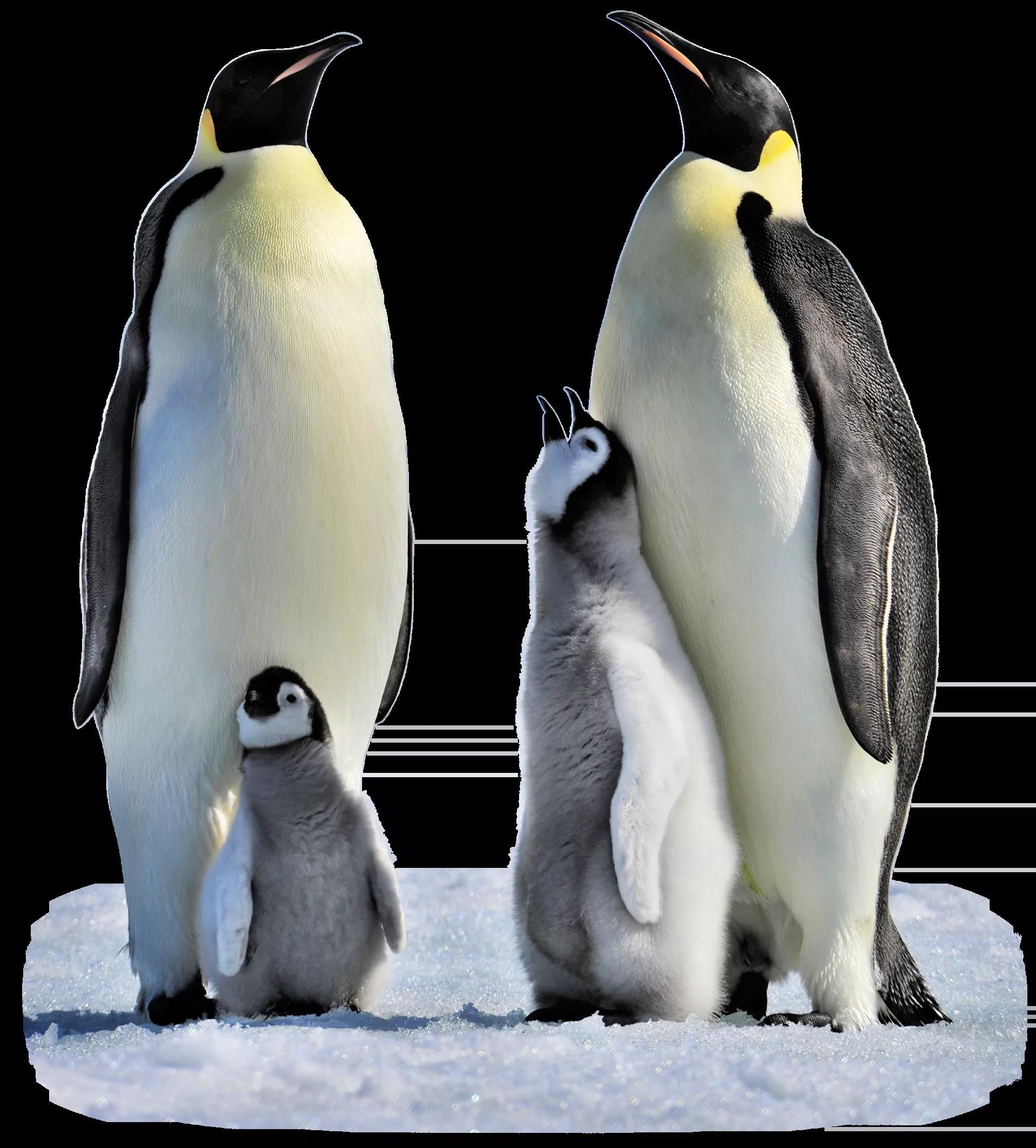Penguin: (590, 11, 944, 1029), (76, 33, 414, 1020), (513, 392, 739, 1020), (200, 666, 404, 1016)
